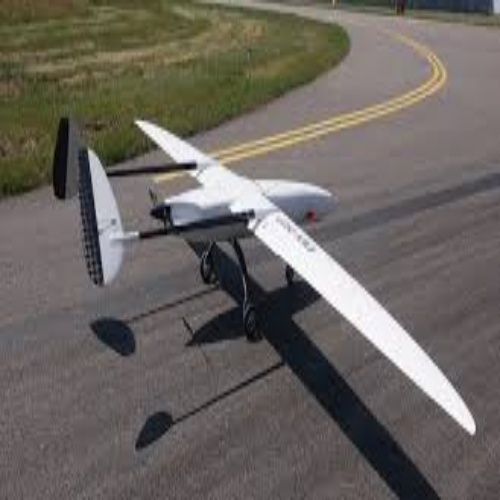uav692: (53, 117, 478, 437)
